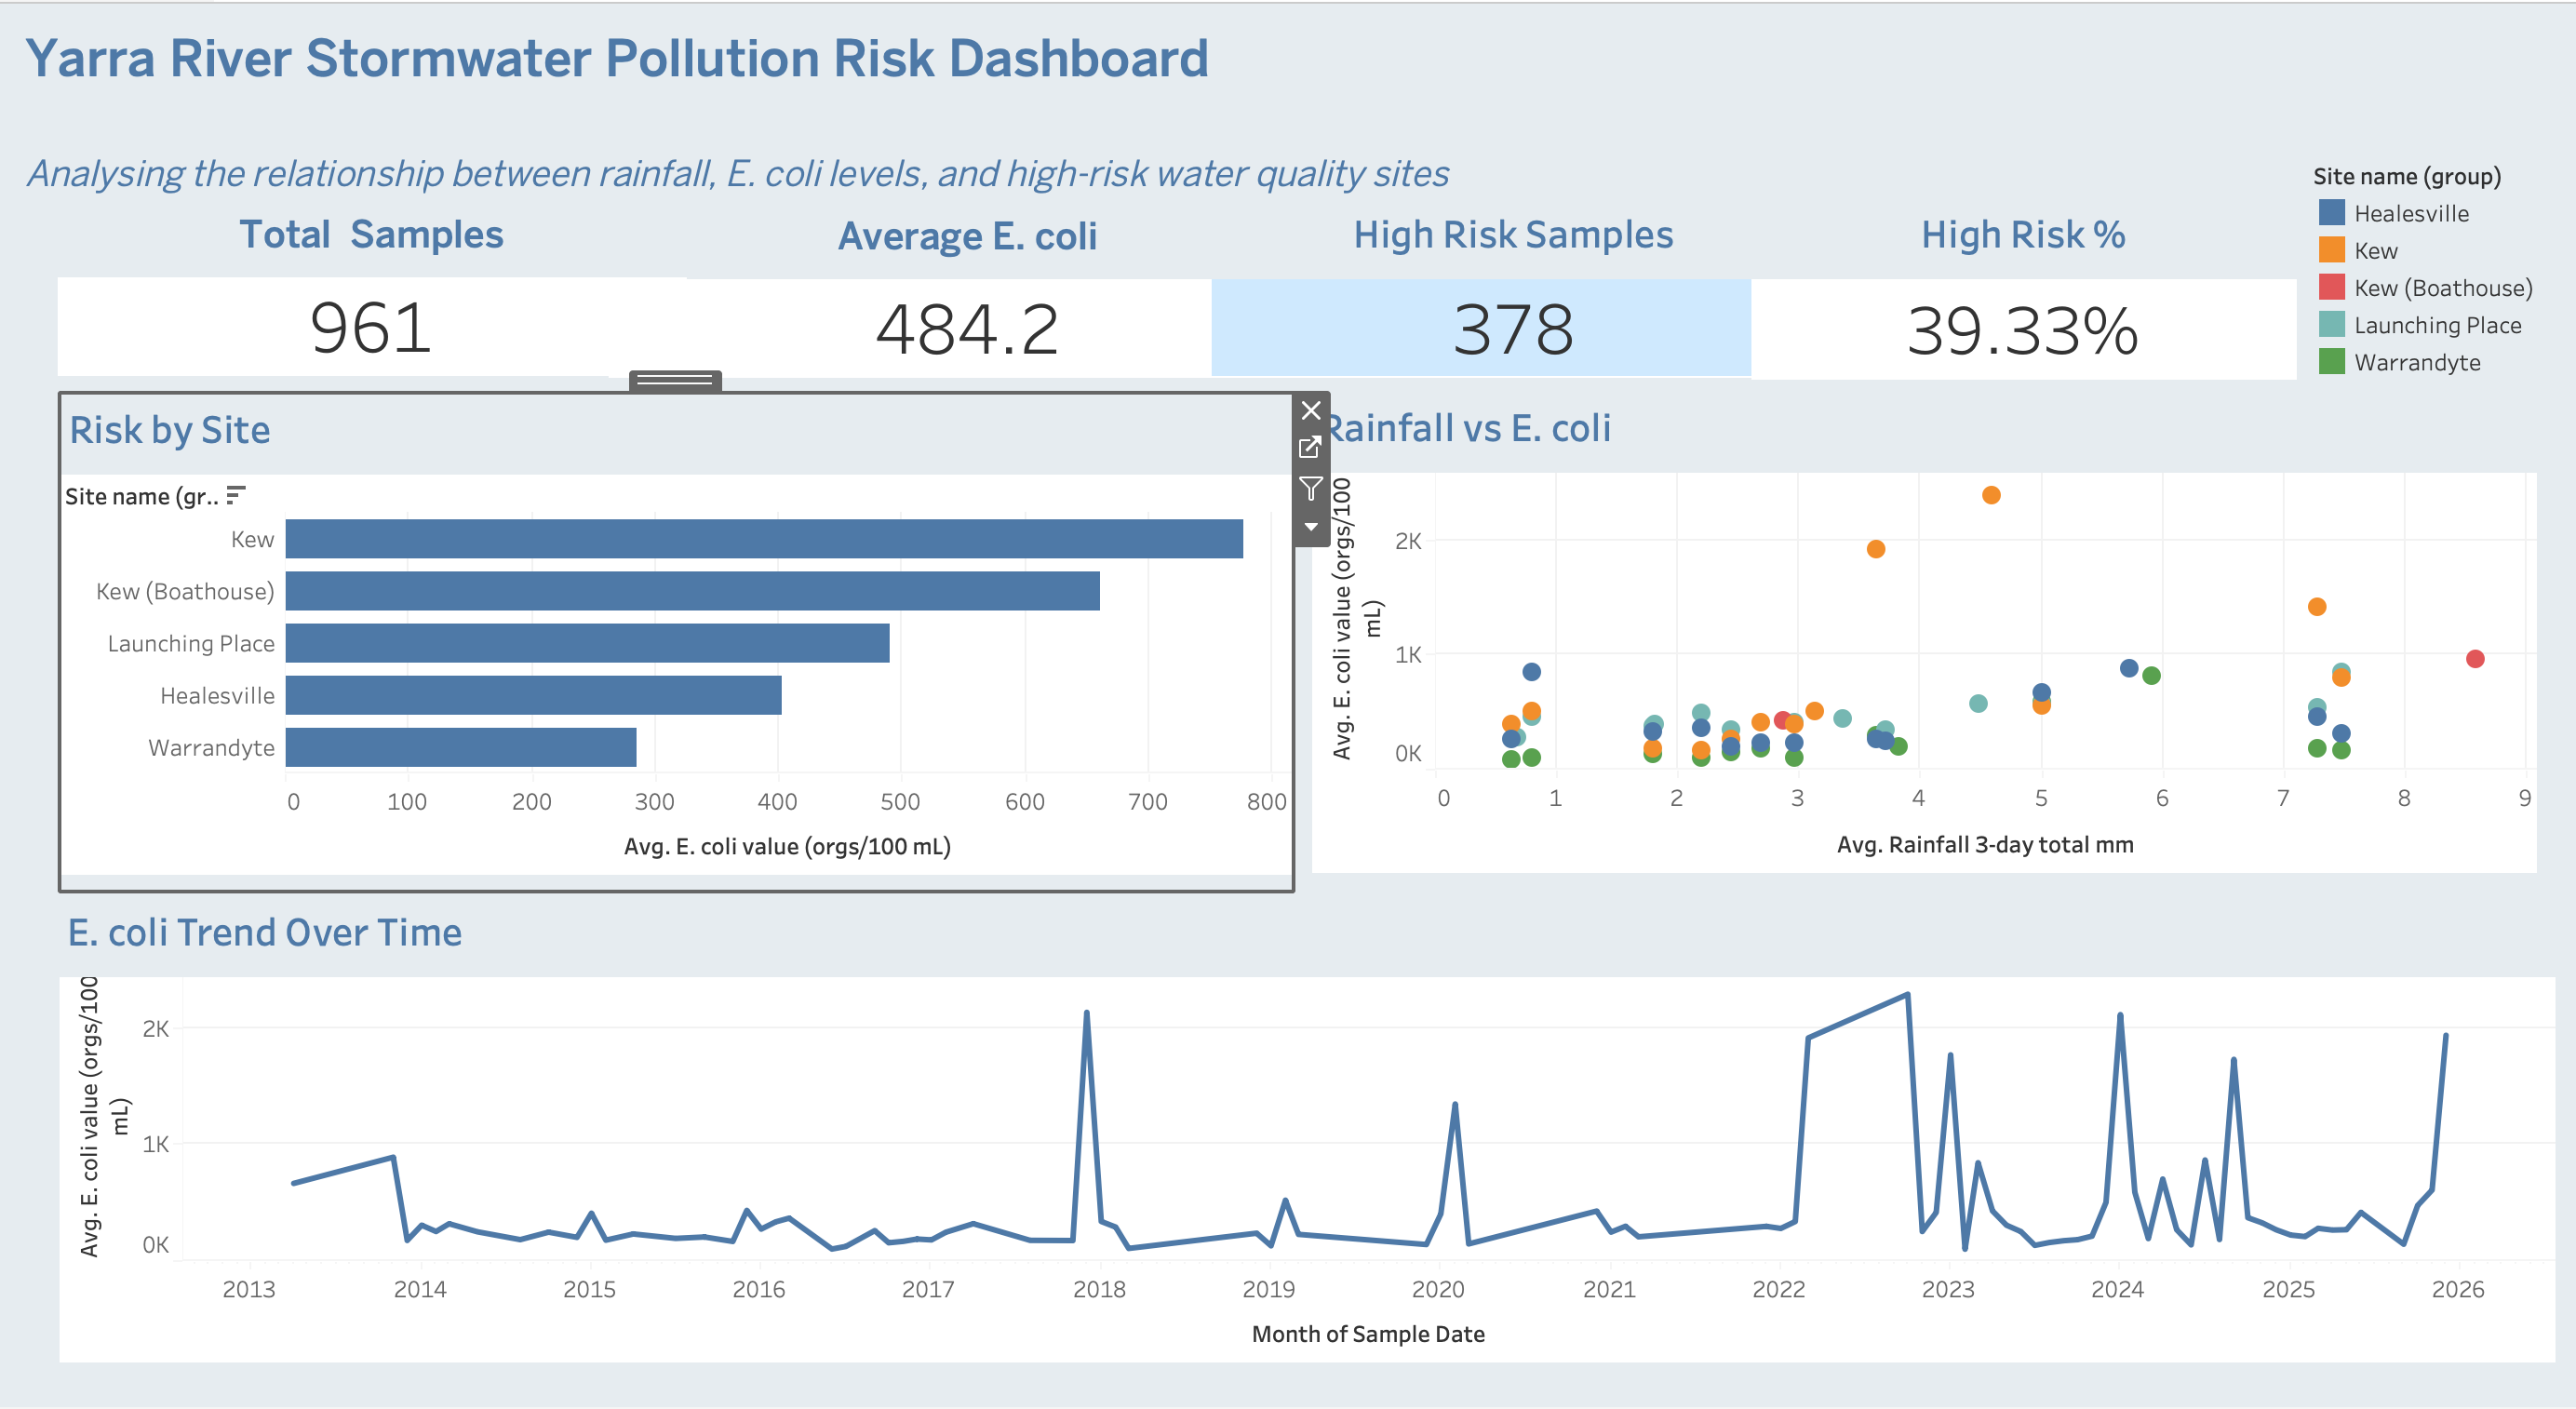

The dashboard page shown, as its layout file describes it:
{"tool":"tableau","page":{"name":"Dashboard 1","canvas":[1000,1000],"units":"permille","ordinal":0},"visuals":[{"type":"title","box":[5.8,10.6,988.4,135.3]},{"type":"legend","title":"Rainfall vs E. coli","param":"[federated.0mykcru0133uvm1duiu3v19tiqul].[Site name (group)]","box":[898.2,111.4,104,217.5]},{"type":"worksheet","title":"High Risk Samples","mark":"Automatic","box":[470.8,139.3,234.7,127.3]},{"type":"worksheet","title":"High Risk Percentage","mark":"Text","box":[680.1,139.3,211.6,149.9]},{"type":"worksheet","title":"Total Water Quality Samples","mark":"Text","box":[23.1,143.2,244,139.3]},{"type":"worksheet","title":"Average E coli","mark":"Text","box":[237,145,279,206.2]},{"type":"worksheet","title":"Rainfall vs E. coli","mark":"Circle","rows":["E. coli value (orgs/100 mL)"],"cols":["Rainfall 3-day total mm"],"box":[509.8,277.2,475.1,342.2]},{"type":"worksheet","title":"Risk by Site","mark":"Automatic","cols":["E. coli value (orgs/100 mL)"],"box":[24.6,278.5,477.3,352.8]},{"type":"worksheet","title":"E. coli Trend Over Time","mark":"Automatic","rows":["E. coli value (orgs/100 mL)"],"cols":["Sample Date"],"box":[23.8,636.6,968.2,331.6]}]}

Visuals, with their boxes on the dashboard's canvas, which has no fixed pixel size, in thousandths of its width and height (x1, y1, x2, y2). These are canvas units, not pixel positions in the 2576x1409 screenshot, which may show the page scaled, cropped or inside an application window:
title: <bbox>6, 11, 994, 146</bbox>
"Rainfall vs E. coli" legend: <bbox>898, 111, 1002, 329</bbox>
"High Risk Samples" worksheet: <bbox>471, 139, 706, 267</bbox>
"High Risk Percentage" worksheet (Text marks): <bbox>680, 139, 892, 289</bbox>
"Total Water Quality Samples" worksheet (Text marks): <bbox>23, 143, 267, 282</bbox>
"Average E coli" worksheet (Text marks): <bbox>237, 145, 516, 351</bbox>
"Rainfall vs E. coli" worksheet (Circle marks): <bbox>510, 277, 985, 619</bbox>
"Risk by Site" worksheet: <bbox>25, 278, 502, 631</bbox>
"E. coli Trend Over Time" worksheet: <bbox>24, 637, 992, 968</bbox>
